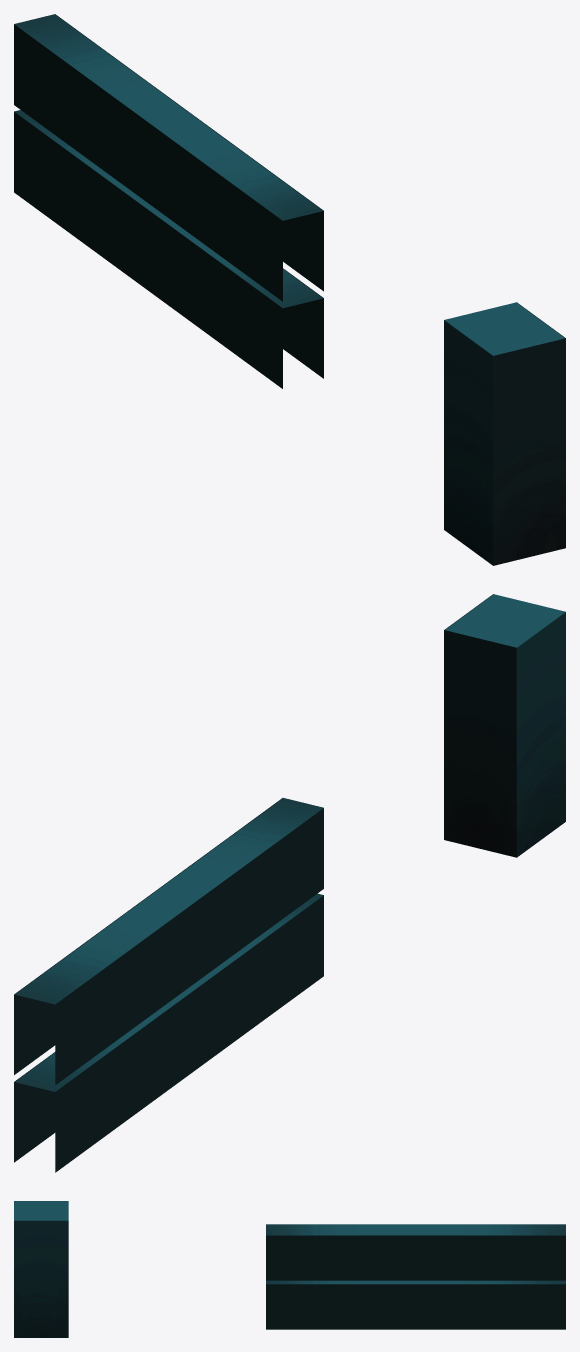
The model's file is Envi_1.fbx.
The picture shows the model from 3 angles, top to bottom: view 1: azimuth 30°, elevation 25°; view 2: azimuth 150°, elevation 25°; view 3: azimuth 270°, elevation 25°; orthographic projection. The views are drawn at different scales.
Visible parts, largest first — view 1: polySurface132, polySurface134; view 2: polySurface132, polySurface134; view 3: polySurface132, polySurface134.
Boxes of the visible parts, left/top/right/bottom form: polySurface132: left=14, top=14, right=323, bottom=388; polySurface134: left=444, top=302, right=565, bottom=565; polySurface132: left=14, top=798, right=323, bottom=1172; polySurface134: left=444, top=594, right=565, bottom=857; polySurface132: left=266, top=1224, right=565, bottom=1329; polySurface134: left=14, top=1201, right=68, bottom=1337.
Size of what is drawn, in the model's own units: 0.9591 by 2.65 by 11.31.
